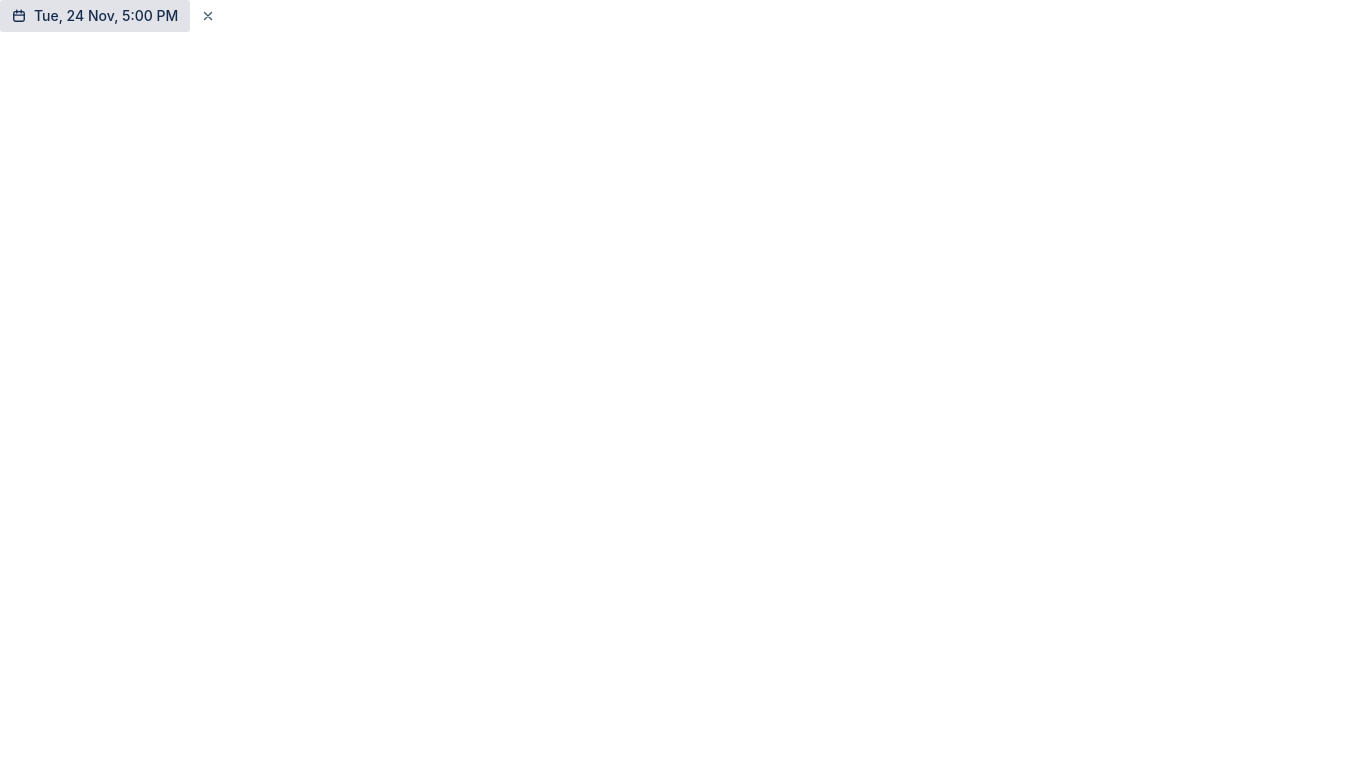
Test case: DateTimeField › turns a deadline into a time window: a start an hour before the end, a visible length, and length chips
Step 1. Click the button with aria-label "due date: " → click(95, 16), box [0, 0, 190, 32]
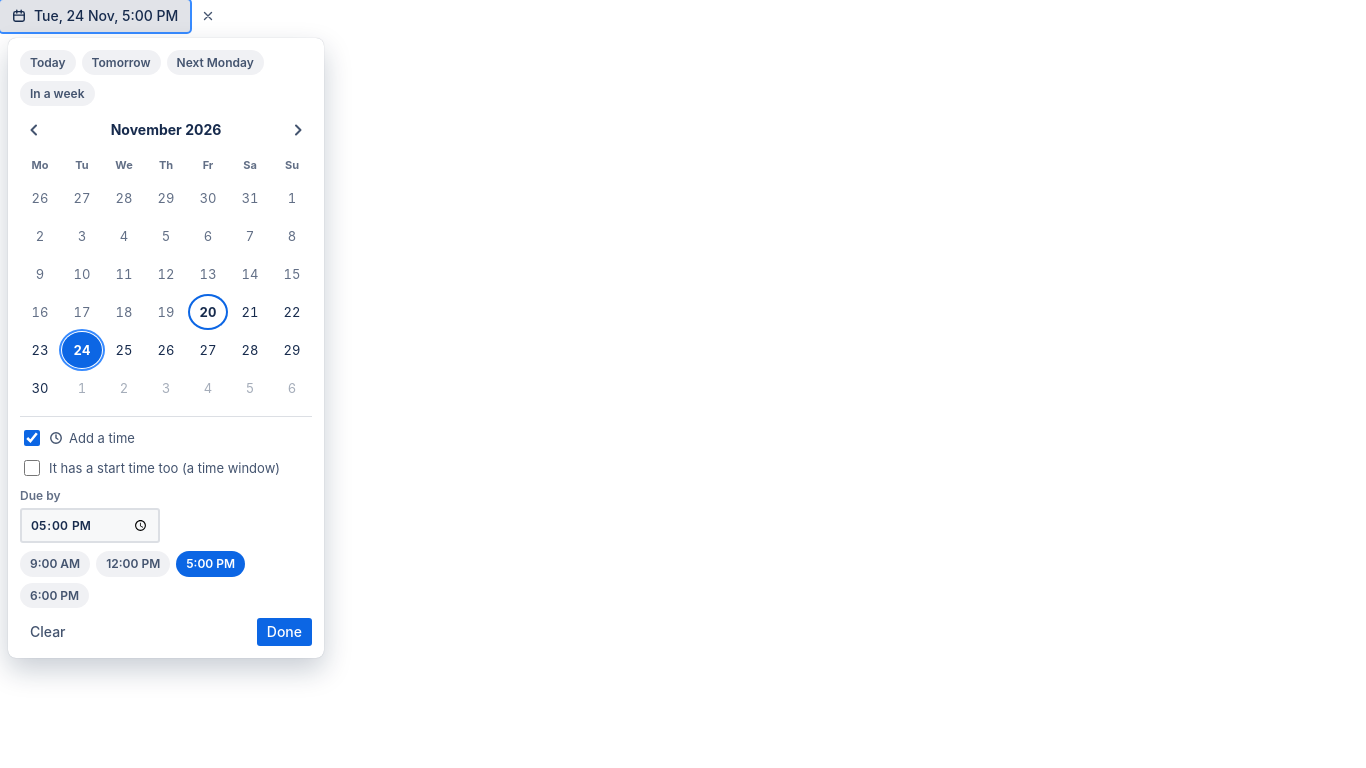
Step 2. Click the checkbox labelled "It has a start time too (a time window)" → click(32, 468), box [24, 460, 40, 476]
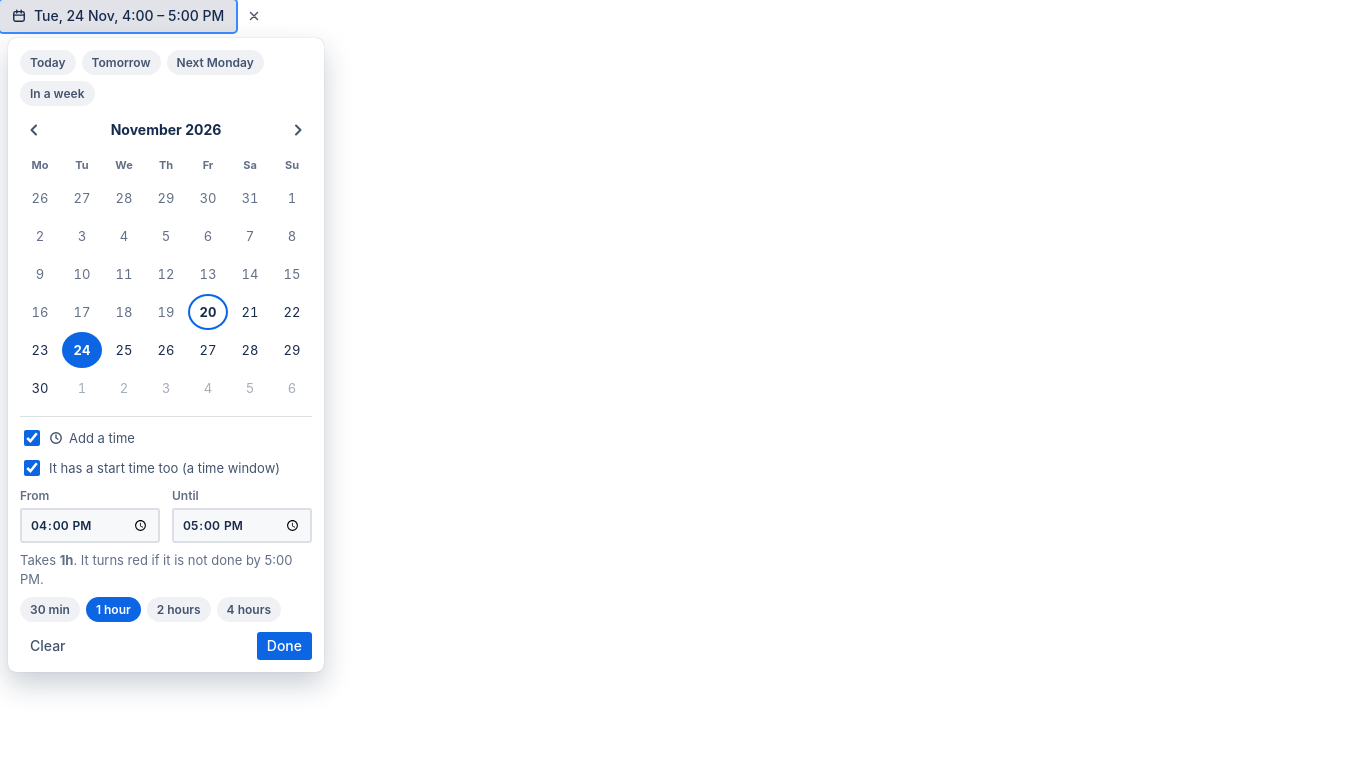
Check: the text "Takes 1h. It turns red if it is not done by 5:00 PM." is shown, box [20, 551, 312, 588]
Step 3. Click the button "2 hours" → click(179, 609), box [147, 596, 211, 622]
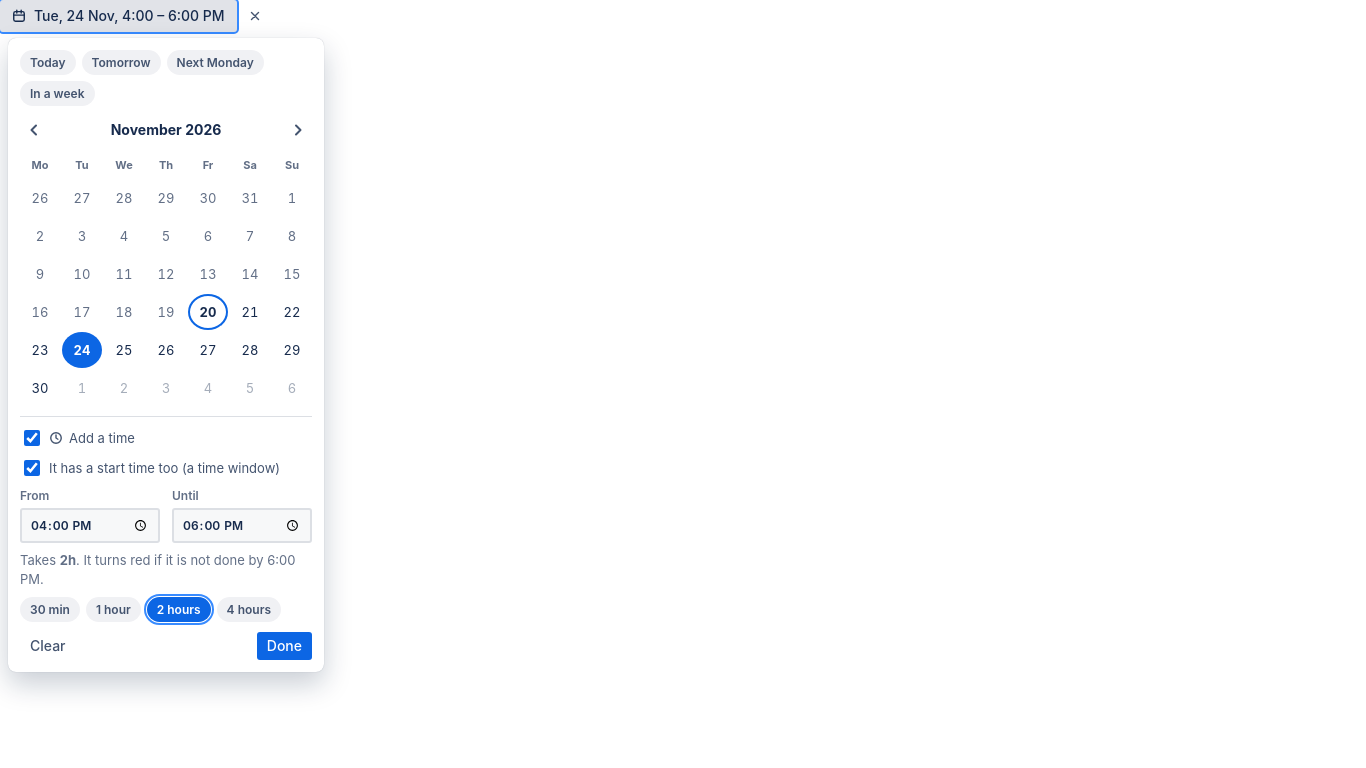
Check: the button with aria-label "due date: Tue, 24 Nov, 4:00 – 6:00 PM" is shown, box [0, 0, 237, 32]
